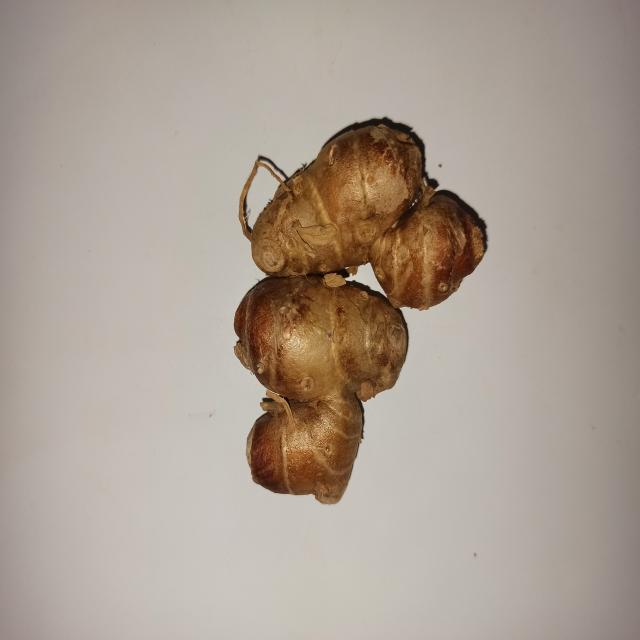ginger: (234, 117, 467, 472)
